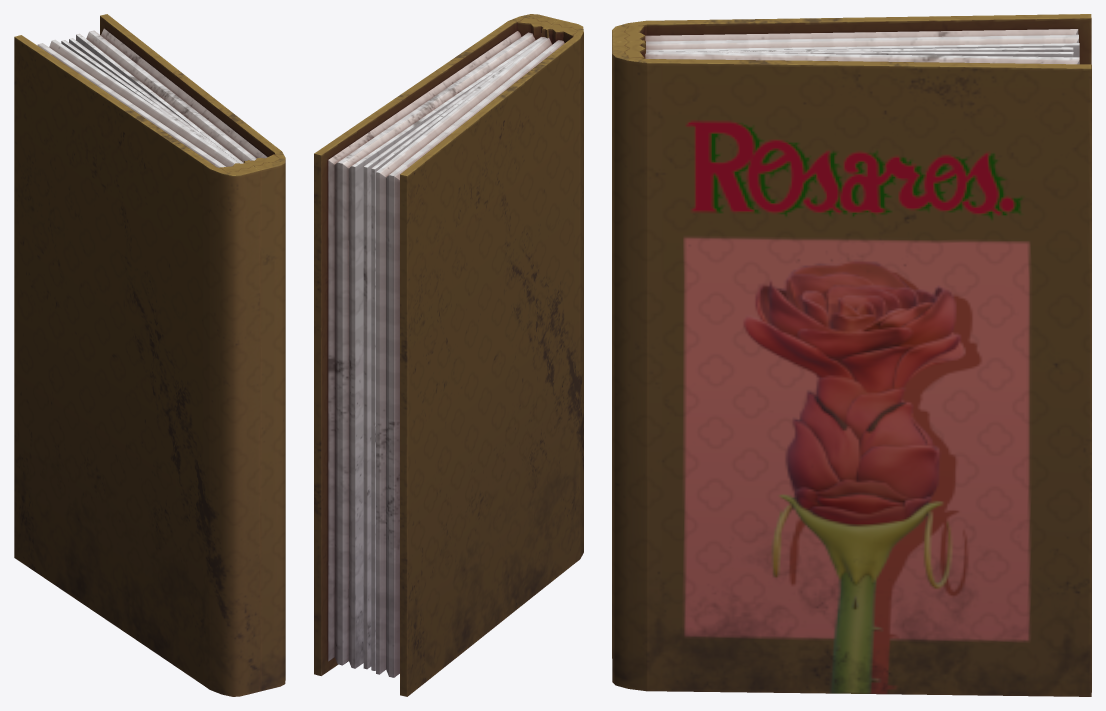
The model's file is Rosaura.fbx.
The picture shows the model from 3 angles, left to right: view 1: azimuth 30°, elevation 25°; view 2: azimuth 150°, elevation 25°; view 3: azimuth 270°, elevation 25°; orthographic projection. The views are drawn at different scales.
Parts seen in each view (by area): view 1: libro4Detras, libro4Delante, Pagina1Libro4, Pagina2Libro4; view 2: libro4Detras, libro4Delante, Pagina1Libro4, Pagina2Libro4; view 3: libro4Delante, libro4Detras, Pagina1Libro4, Pagina2Libro4.
Part boxes in pixels (x1=…): libro4Detras: x1=14, y1=35, x2=260, y2=696; libro4Delante: x1=76, y1=14, x2=285, y2=691; Pagina1Libro4: x1=69, y1=38, x2=238, y2=162; Pagina2Libro4: x1=61, y1=40, x2=235, y2=160; libro4Detras: x1=376, y1=19, x2=583, y2=696; libro4Delante: x1=314, y1=14, x2=557, y2=675; Pagina1Libro4: x1=363, y1=56, x2=518, y2=669; Pagina2Libro4: x1=371, y1=43, x2=536, y2=670; libro4Delante: x1=612, y1=40, x2=1091, y2=696; libro4Detras: x1=612, y1=14, x2=1091, y2=658; Pagina1Libro4: x1=664, y1=51, x2=1073, y2=57; Pagina2Libro4: x1=669, y1=47, x2=1073, y2=52.
Bounding box in the file's own units: 17.02 × 90.92 × 62.92.
2 materials, 2 textured.
